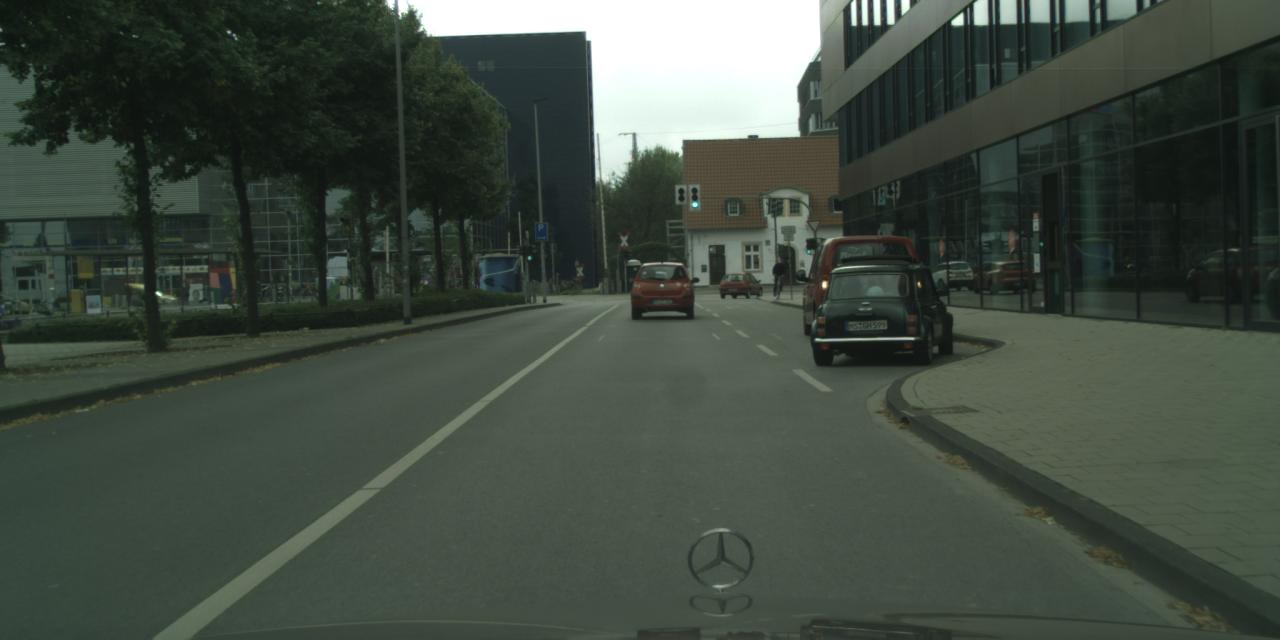ped: (773, 259, 786, 292)
